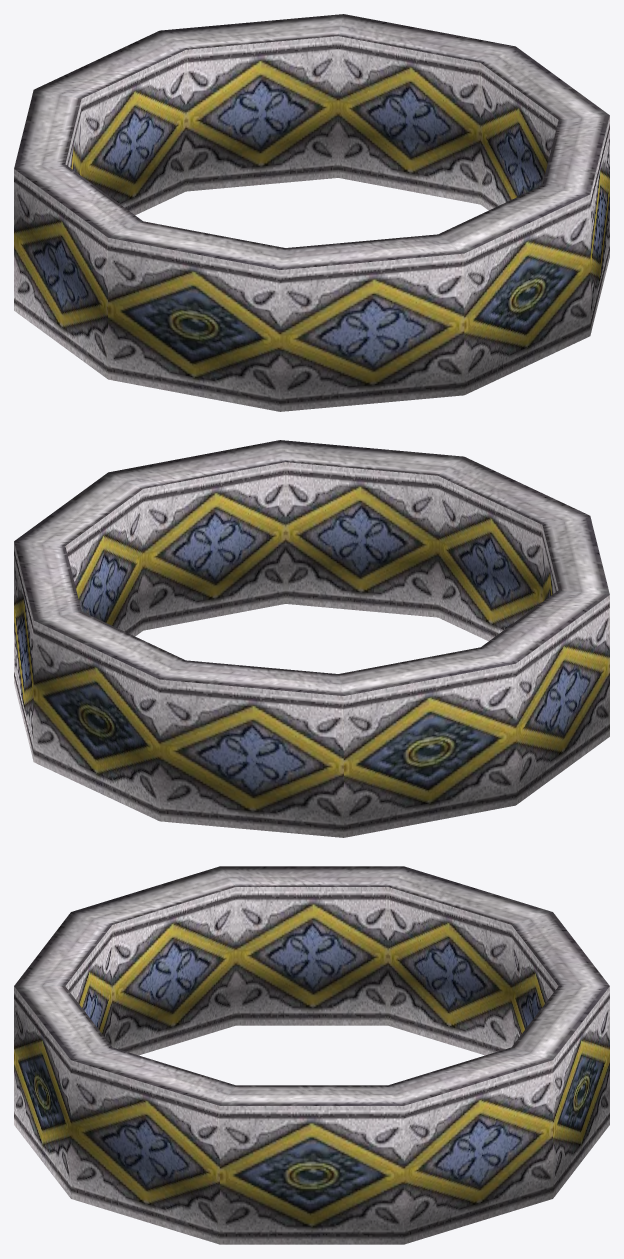
File: ITRI_PROT_MAGE_02.glb
3 views of the same model, one above another, from view 1: azimuth 30°, elevation 25°; view 2: azimuth 150°, elevation 25°; view 3: azimuth 270°, elevation 25° (orthographic). The views are drawn at different scales.
Visible parts, largest first — view 1: Mesh; view 2: Mesh; view 3: Mesh.
Boxes of the visible parts, box(x1,y1,x2,y2) form: Mesh: box(14, 14, 609, 411); Mesh: box(14, 440, 609, 837); Mesh: box(14, 866, 609, 1244).
Bounding box in the file's own units: 0.0624 × 0.0169 × 0.0657.
1 material, 1 textured.
